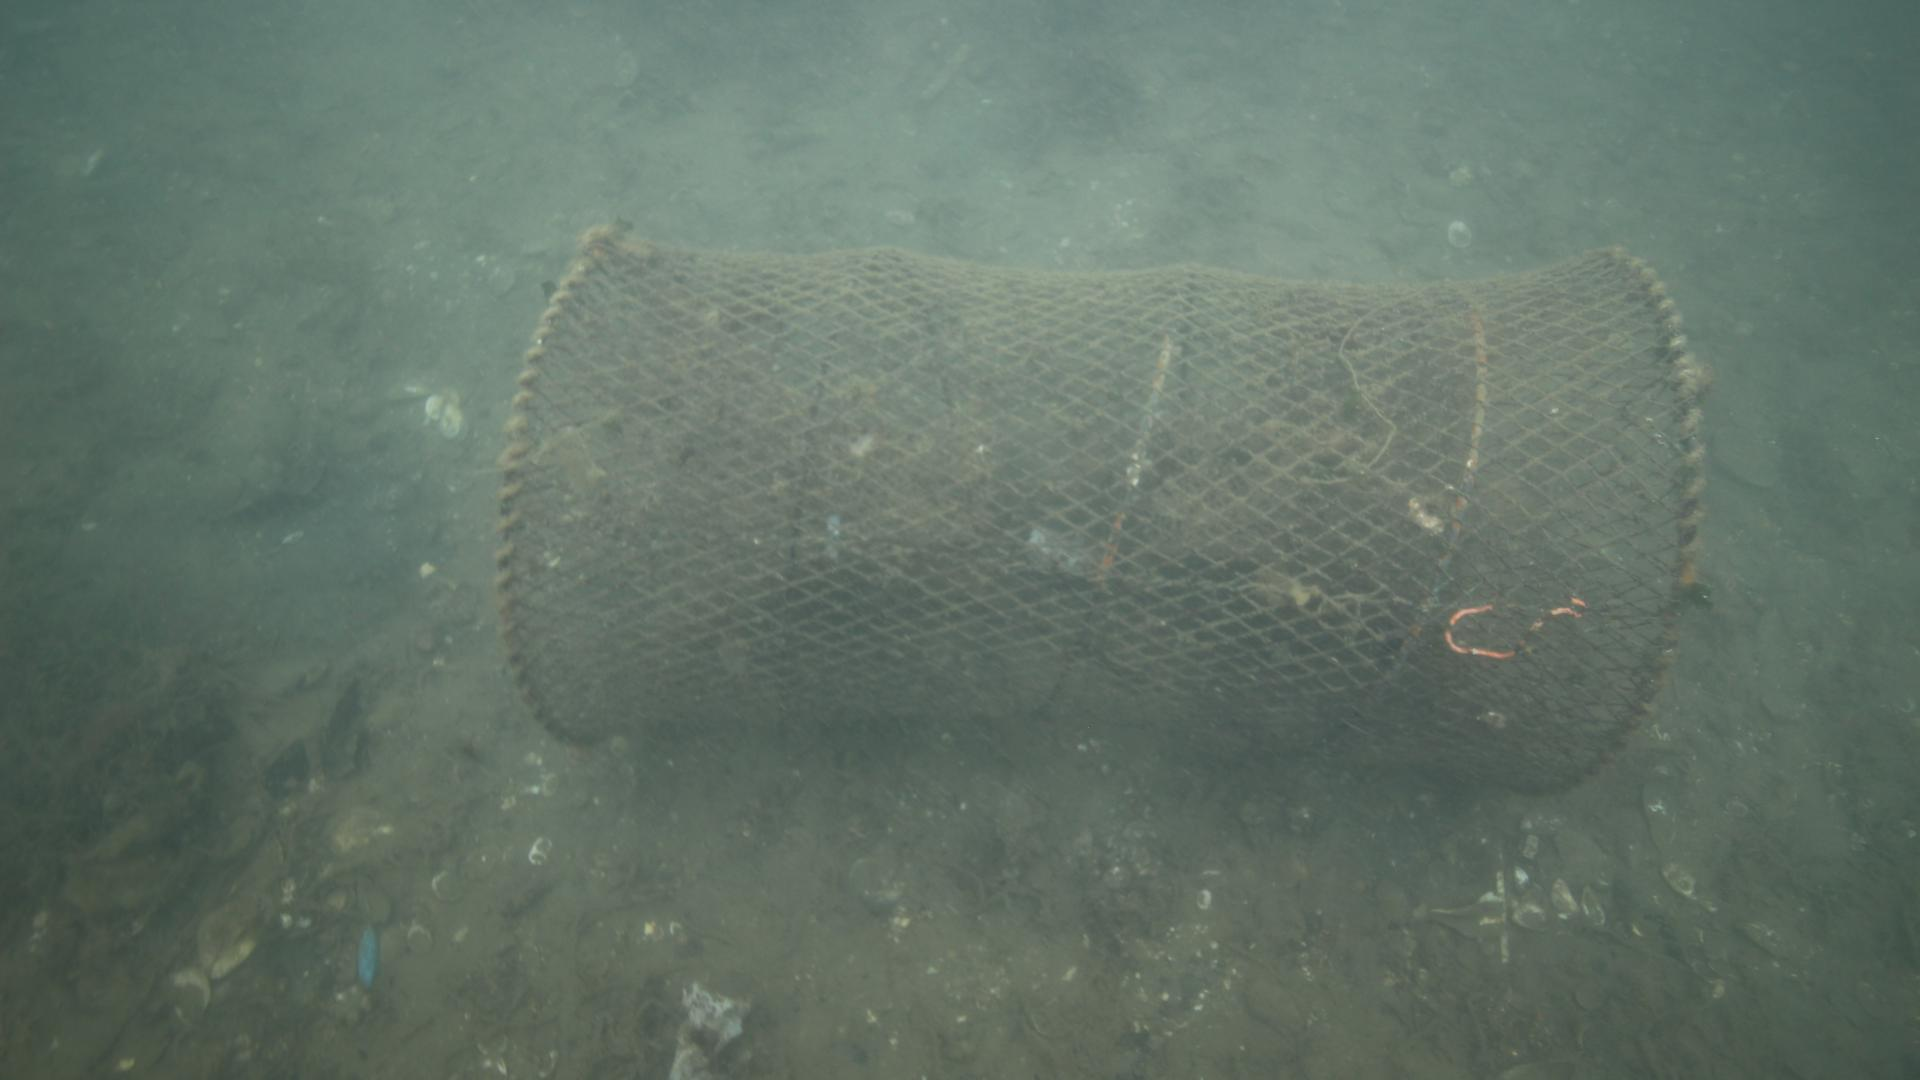spring fish trap: (495, 220, 1701, 796)
